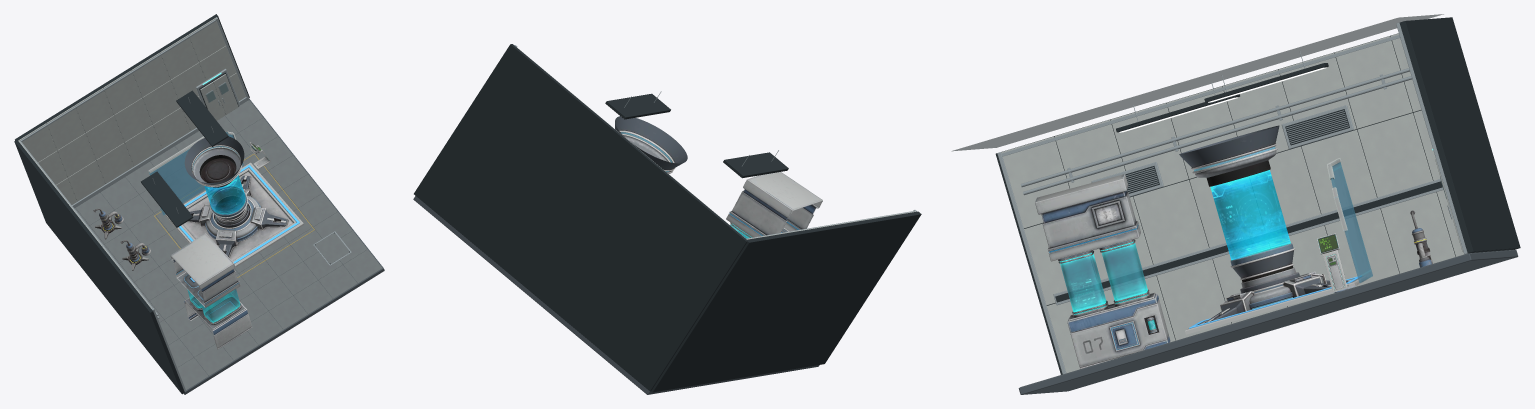
Rendered from lab-v02.glb.
The picture shows the model from 3 angles, left to right: view 1: azimuth 30°, elevation 25°; view 2: azimuth 150°, elevation 25°; view 3: azimuth 270°, elevation 25°; orthographic projection. The views are drawn at different scales.
Visible parts, largest first — view 1: V02 Epoxy floor edges, V02 Satin wall edges, V02 Shadow joints, Object_10.001, Object_10.005, Object_10.006, V02 Brushed stainless, V02 Slab edge edges, Object_10.008, Object_10.009, Object_10.003; view 2: V02 Shadow joints, Object_10.005, Object_10.001, V02 Slab edge edges; view 3: V02 Satin wall edges, V02 Shadow joints, Object_10.005, V02 Brushed stainless, V02 Slab edge edges, Object_10.001, V02 Cutaway ceiling, Object_10.009, Object_10.008, Object_10.006, Object_10.007, Object_10.003 (+1 smaller).
Part boxes in pixels (left/top/right/bottom): V02 Epoxy floor edges: left=74, top=100, right=382, bottom=390; V02 Satin wall edges: left=18, top=18, right=245, bottom=308; V02 Shadow joints: left=14, top=14, right=349, bottom=394; Object_10.001: left=184, top=136, right=287, bottom=257; Object_10.005: left=170, top=233, right=252, bottom=349; Object_10.006: left=165, top=162, right=303, bottom=267; V02 Brushed stainless: left=19, top=17, right=351, bottom=391; V02 Slab edge edges: left=76, top=99, right=384, bottom=394; Object_10.008: left=148, top=131, right=243, bottom=215; Object_10.009: left=204, top=175, right=245, bottom=214; Object_10.003: left=93, top=208, right=150, bottom=270; V02 Shadow joints: left=414, top=44, right=921, bottom=392; Object_10.005: left=726, top=172, right=822, bottom=238; Object_10.001: left=615, top=116, right=687, bottom=173; V02 Slab edge edges: left=413, top=196, right=819, bottom=394; V02 Satin wall edges: left=1001, top=33, right=1464, bottom=373; V02 Shadow joints: left=995, top=17, right=1520, bottom=374; Object_10.005: left=1035, top=174, right=1170, bottom=368; V02 Brushed stainless: left=997, top=22, right=1513, bottom=374; V02 Slab edge edges: left=1018, top=250, right=1518, bottom=394; Object_10.001: left=1179, top=125, right=1348, bottom=323; V02 Cutaway ceiling: left=951, top=14, right=1443, bottom=151; Object_10.009: left=1210, top=170, right=1290, bottom=260; Object_10.008: left=1326, top=158, right=1372, bottom=282; Object_10.006: left=1185, top=275, right=1367, bottom=334; Object_10.007: left=1317, top=233, right=1348, bottom=290; Object_10.003: left=1334, top=210, right=1432, bottom=292.
Bounding box in the file's own units: 17.91 × 19.37 × 20.85.
Materials: 18 (8 with a texture image).
